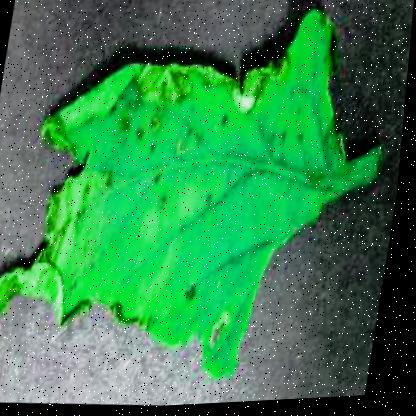BACTERIAL SPOT: (0, 0, 408, 407)
